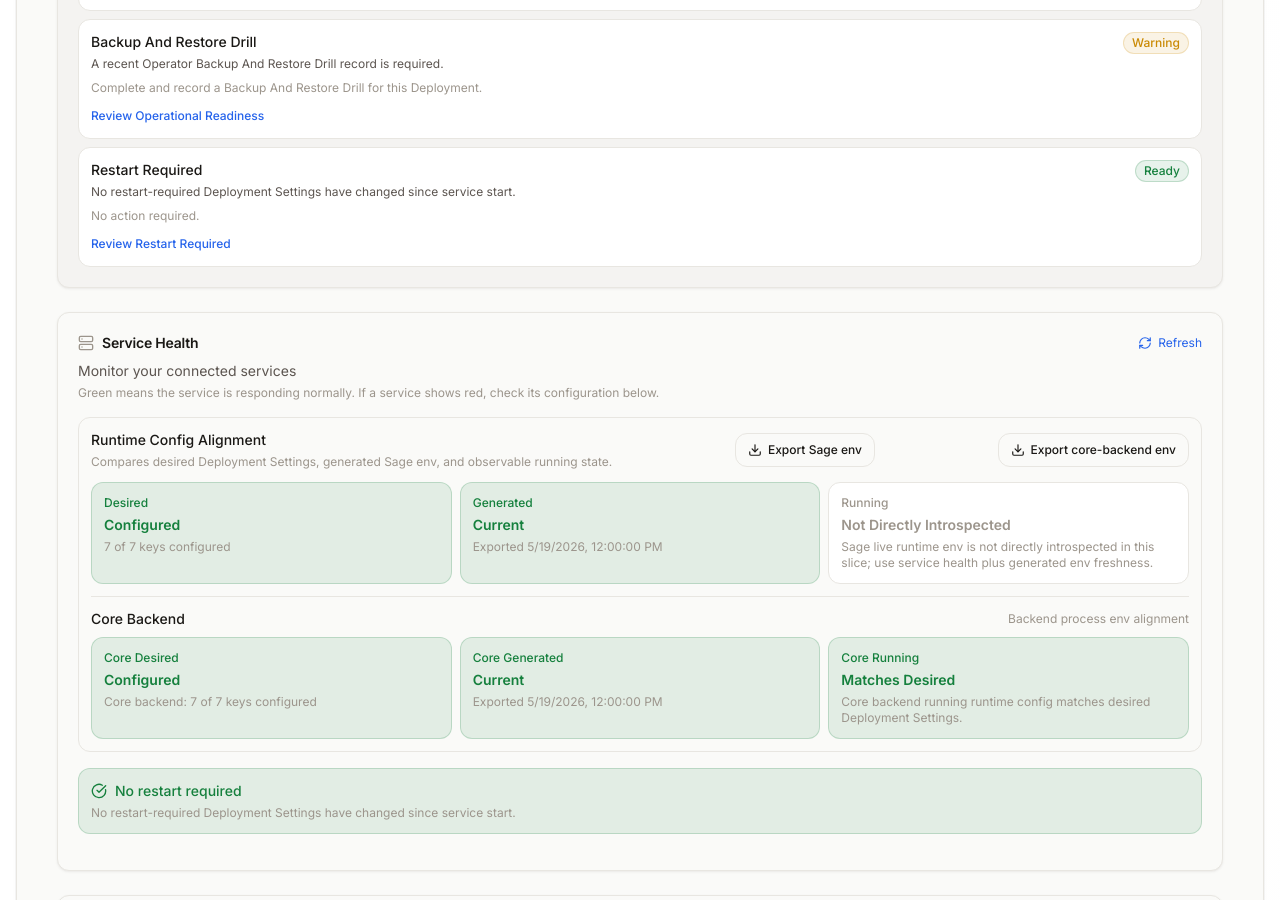
Test: AdminDeploymentConfig › shows Sage env apply guidance after export without implying Sage changed live
(page scrolled)
Expected: the heading "Runtime Config Alignment" is shown, [91, 431, 266, 448]
Click the button "Export Sage env".
click(805, 450)  # box [735, 433, 875, 467]
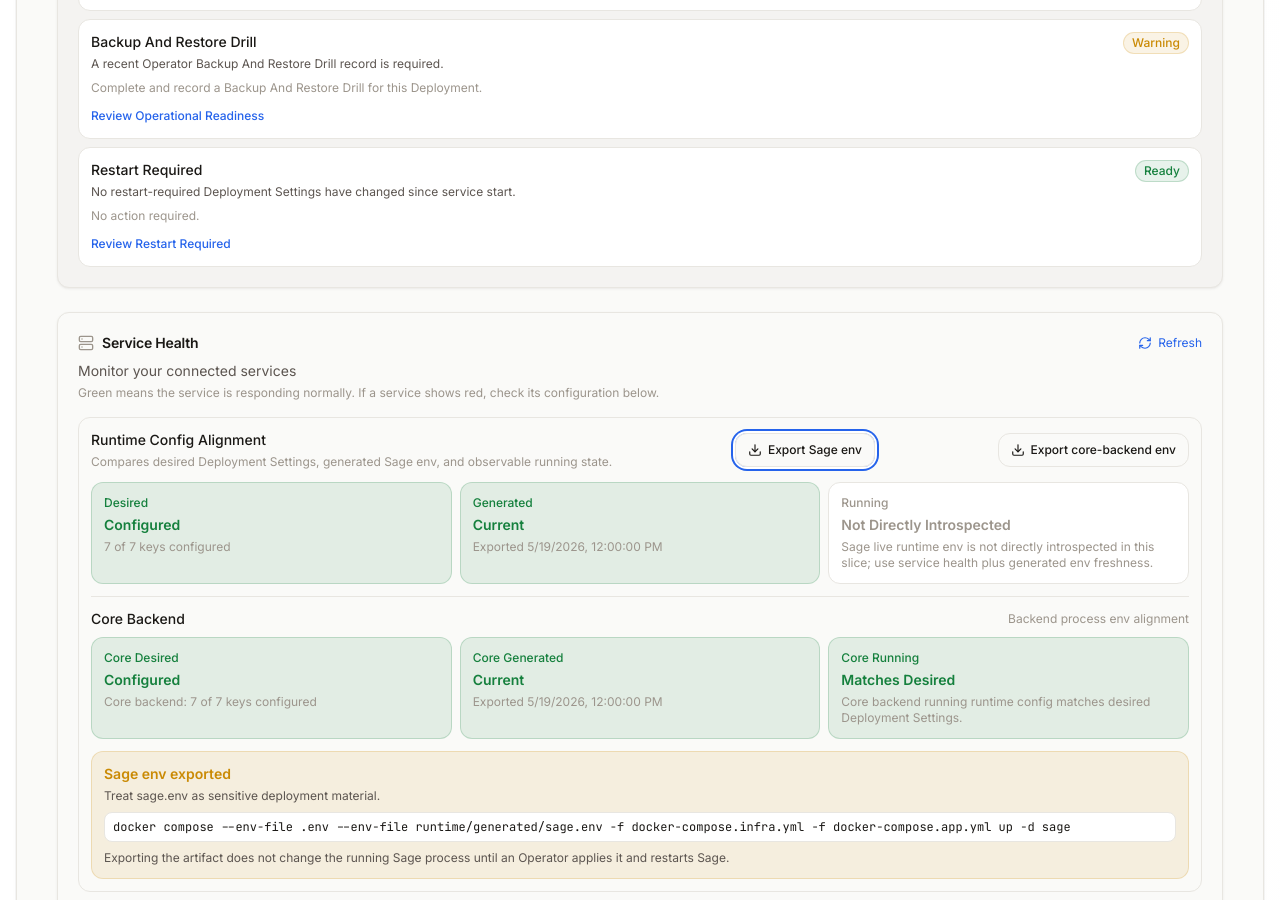
Expected: the text "Sage env exported" is shown, [104, 765, 231, 782]
Expected: the text "Treat sage.env as sensitive deployment material." is shown, [104, 788, 380, 803]
Expected: the text "docker compose --env-file .env --env-file runtime/generated/sage.env -f docker-compose.infra.yml -f docker-compose.app.y" is shown, [113, 819, 1071, 835]
